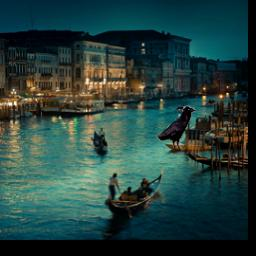Crow: (155, 105, 195, 152)
